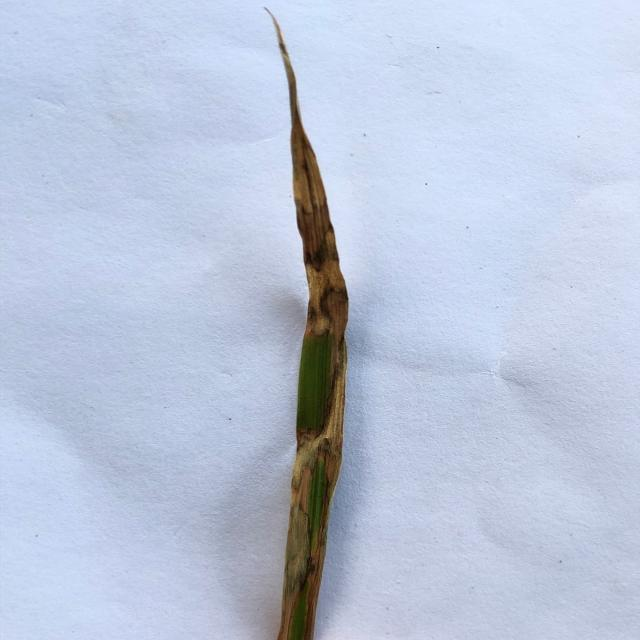Leaf Blight: (276, 108, 349, 640)
